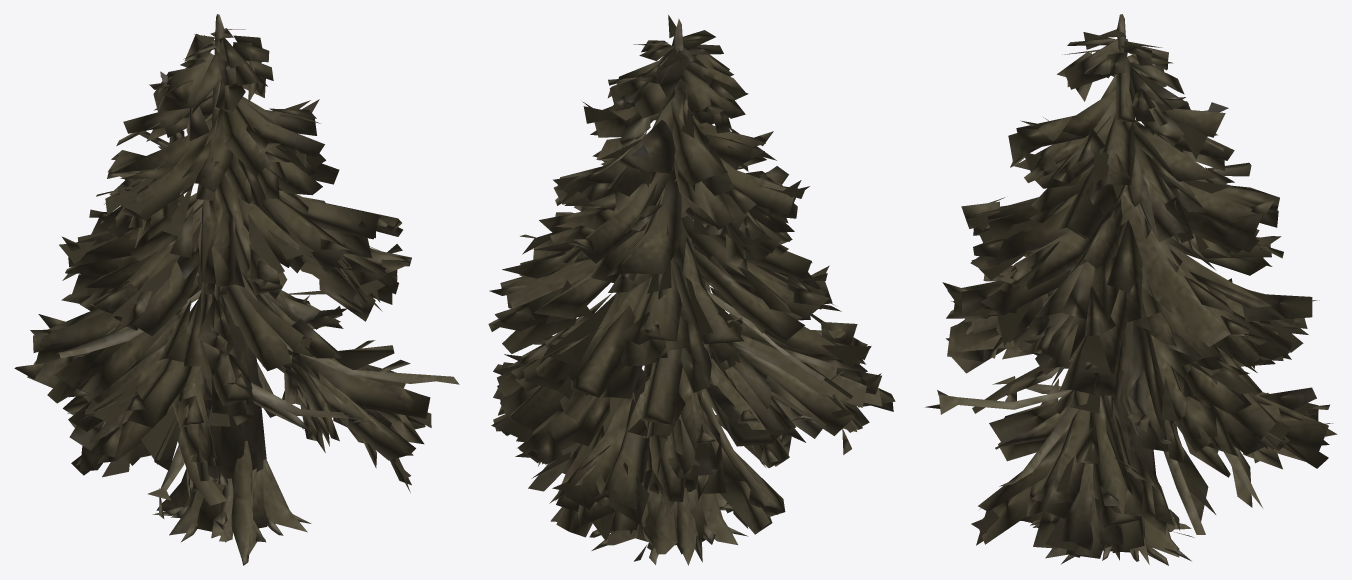
Rendered from h_tree_pine_yellow_large.glb.
3 renders of one model, left to right at view 1: azimuth 30°, elevation 25°; view 2: azimuth 150°, elevation 25°; view 3: azimuth 270°, elevation 25°, orthographic. The views are drawn at different scales.
Parts seen in each view (by area): view 1: h_tree_pine_yellow_large; view 2: h_tree_pine_yellow_large; view 3: h_tree_pine_yellow_large.
Boxes of the visible parts, x1,y1,x2,y2 form: h_tree_pine_yellow_large: [14, 14, 459, 565]; h_tree_pine_yellow_large: [488, 15, 895, 565]; h_tree_pine_yellow_large: [925, 14, 1337, 565].
Size of the model in its own units: 5.51 by 7.46 by 5.36.
1 material, 1 textured.
